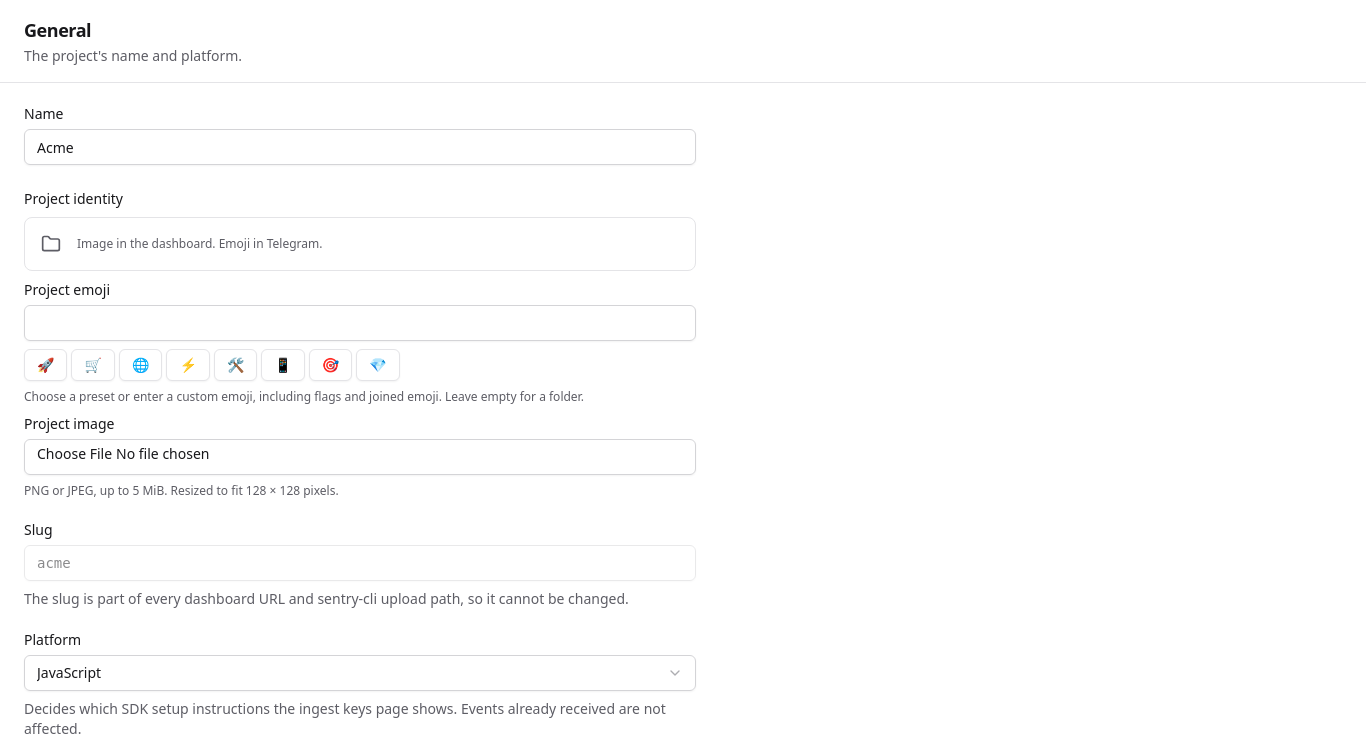
Test: ProjectGeneralPage › saves the edited name and platform under the unchanged slug and refreshes the shared list
The width and height of the screenshot is (1366, 753).
Replace the text in the field labelled "Name" with "Storefront" at (360, 147), box [24, 129, 696, 165]
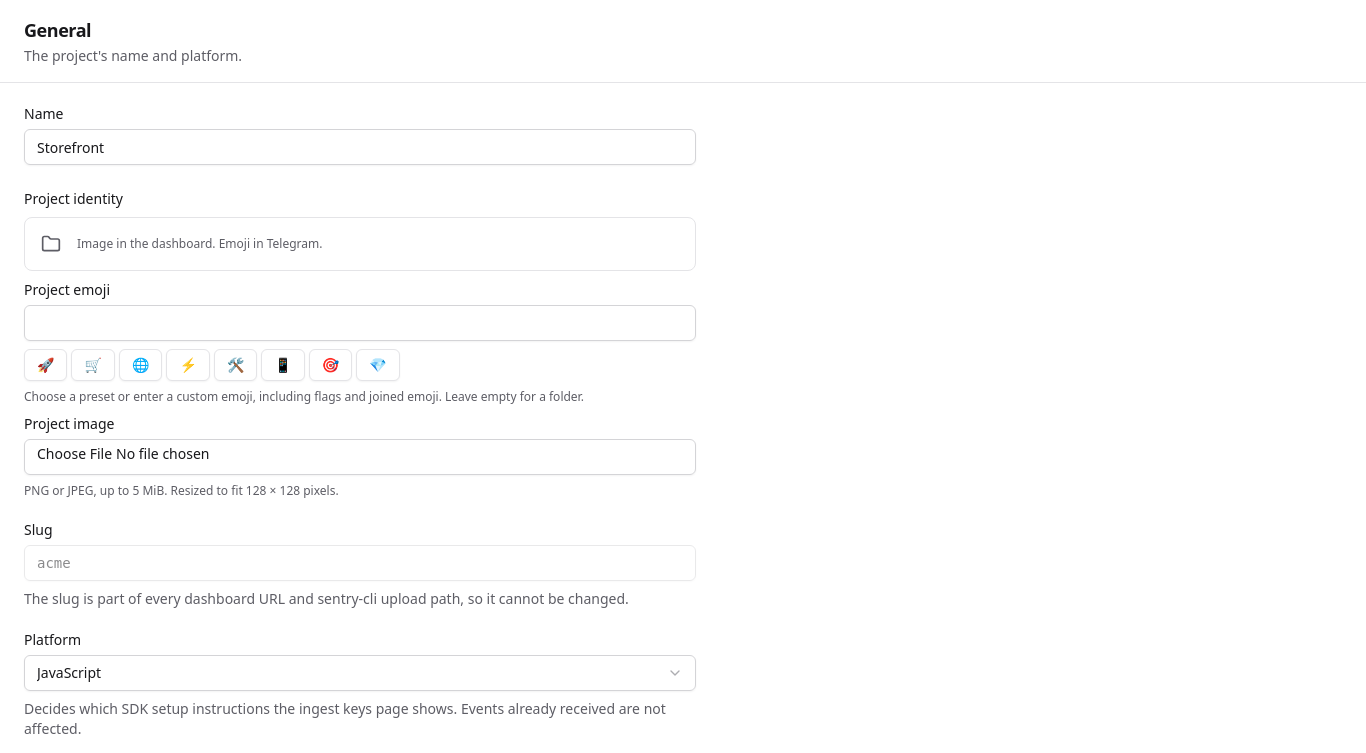
Press the mouse on the dropdown named "Platform" at (69, 672), box [24, 655, 696, 691]
(page scrolled)
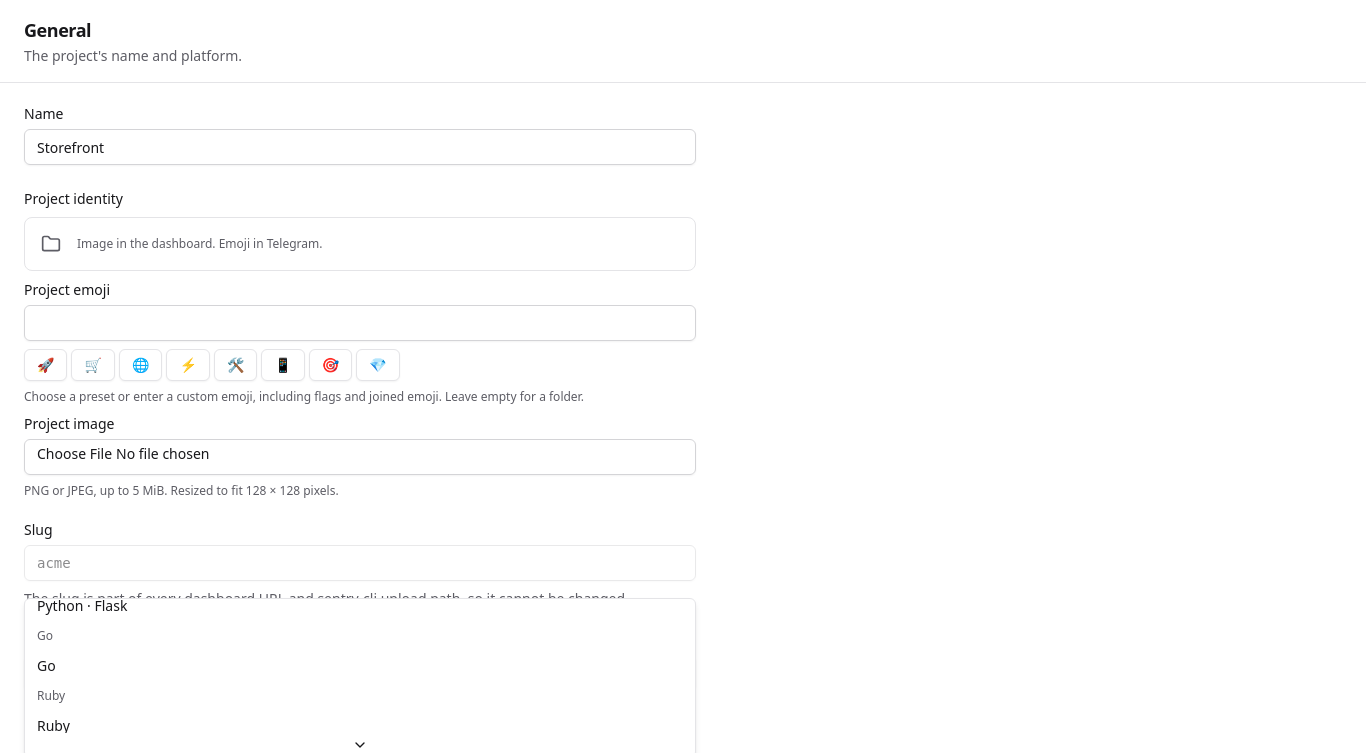
Click the option "Go".
click(46, 666)  # box [37, 656, 56, 675]
(page scrolled)
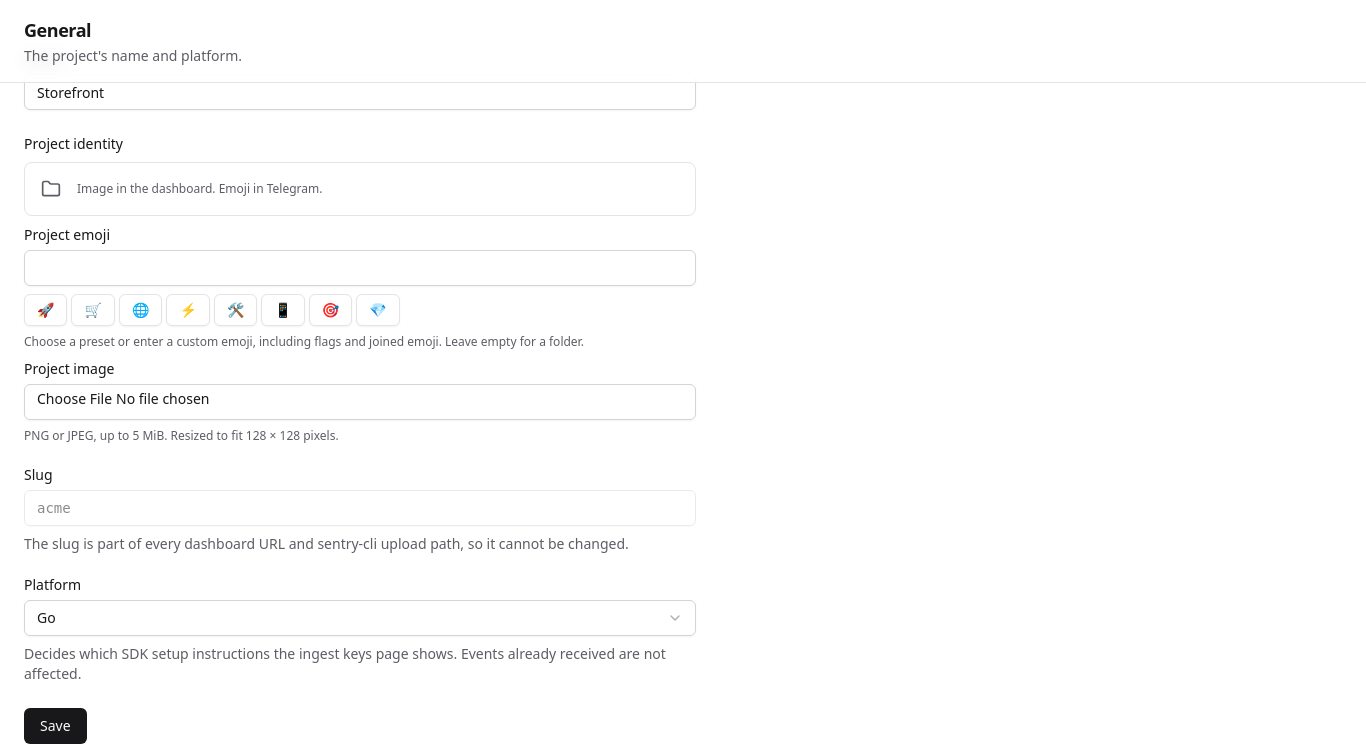
Click the button "Save".
click(55, 726)  # box [24, 708, 87, 744]
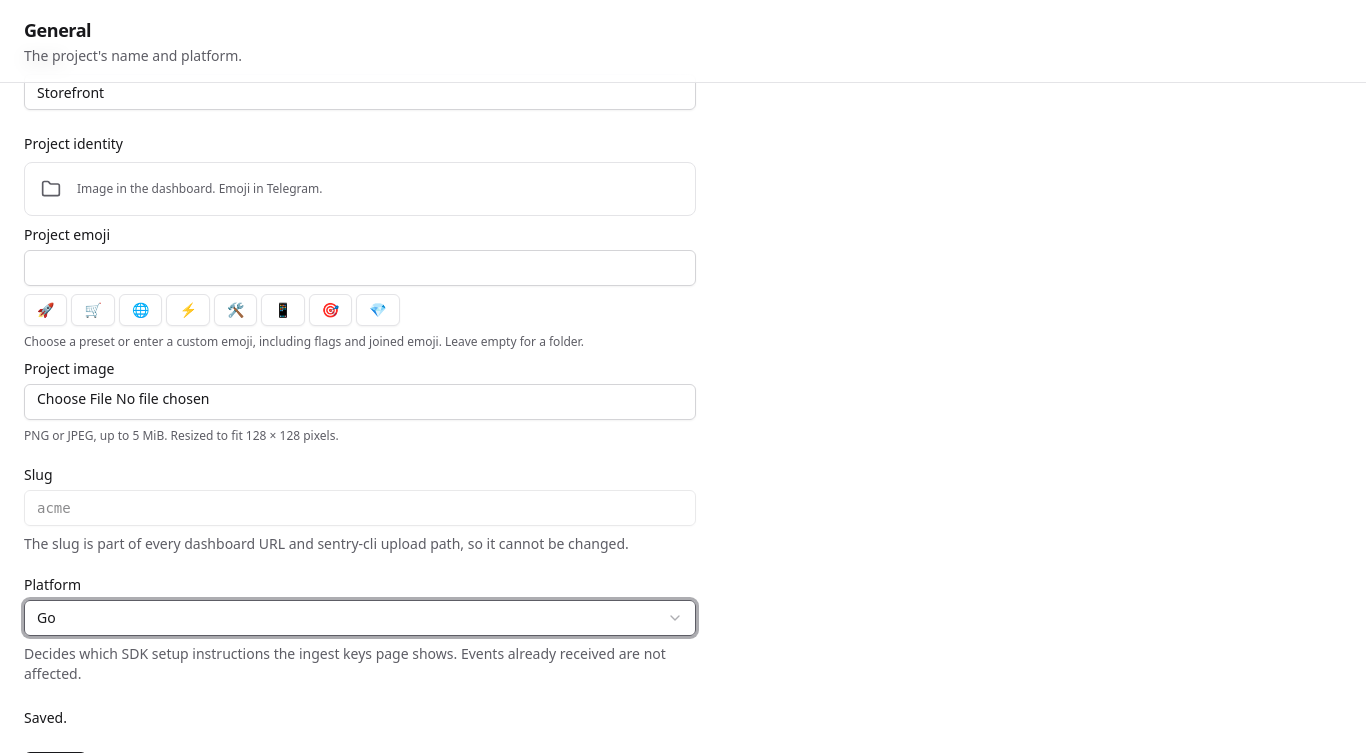
Expected: the text "Saved." is shown, [24, 708, 67, 727]
